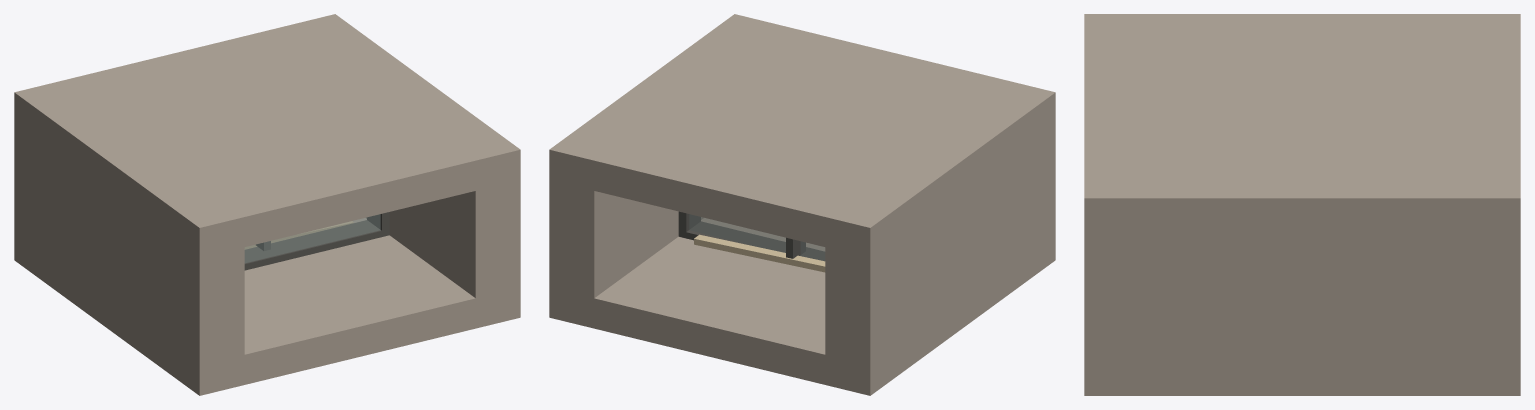
The model's file is trader_window_block.glb.
3 views of the same model, side by side, from view 1: azimuth 30°, elevation 25°; view 2: azimuth 150°, elevation 25°; view 3: azimuth 270°, elevation 25° (orthographic). The views are drawn at different scales.
Visible parts, largest first — view 1: window_block_top_lintel, window_block_left_brick_pillar, window_block_bottom_sill, window_block_right_brick_pillar, window_frame_bottom, single_old_klim_window_block_glass; view 2: window_block_top_lintel, window_block_left_brick_pillar, window_block_bottom_sill, window_block_right_brick_pillar, single_old_klim_window_block_glass, window_frame_bottom, window_bottom_dust; view 3: window_block_right_brick_pillar, window_block_top_lintel, window_block_left_brick_pillar, window_block_bottom_sill.
Boxes of the visible parts, <box> form: window_block_top_lintel: <box>15,14,520,257</box>; window_block_left_brick_pillar: <box>14,83,244,395</box>; window_block_bottom_sill: <box>14,218,520,395</box>; window_block_right_brick_pillar: <box>291,14,520,328</box>; window_frame_bottom: <box>244,220,389,270</box>; single_old_klim_window_block_glass: <box>244,214,380,263</box>; window_block_top_lintel: <box>549,15,1055,257</box>; window_block_left_brick_pillar: <box>825,82,1055,395</box>; window_block_bottom_sill: <box>549,218,1055,395</box>; window_block_right_brick_pillar: <box>549,14,778,328</box>; single_old_klim_window_block_glass: <box>689,214,825,261</box>; window_frame_bottom: <box>678,221,825,261</box>; window_bottom_dust: <box>694,234,825,272</box>; window_block_right_brick_pillar: <box>1084,172,1520,395</box>; window_block_top_lintel: <box>1084,14,1520,233</box>; window_block_left_brick_pillar: <box>1084,14,1520,39</box>; window_block_bottom_sill: <box>1084,360,1520,395</box>.
Size of the model in its own units: 2 by 1 by 2.
